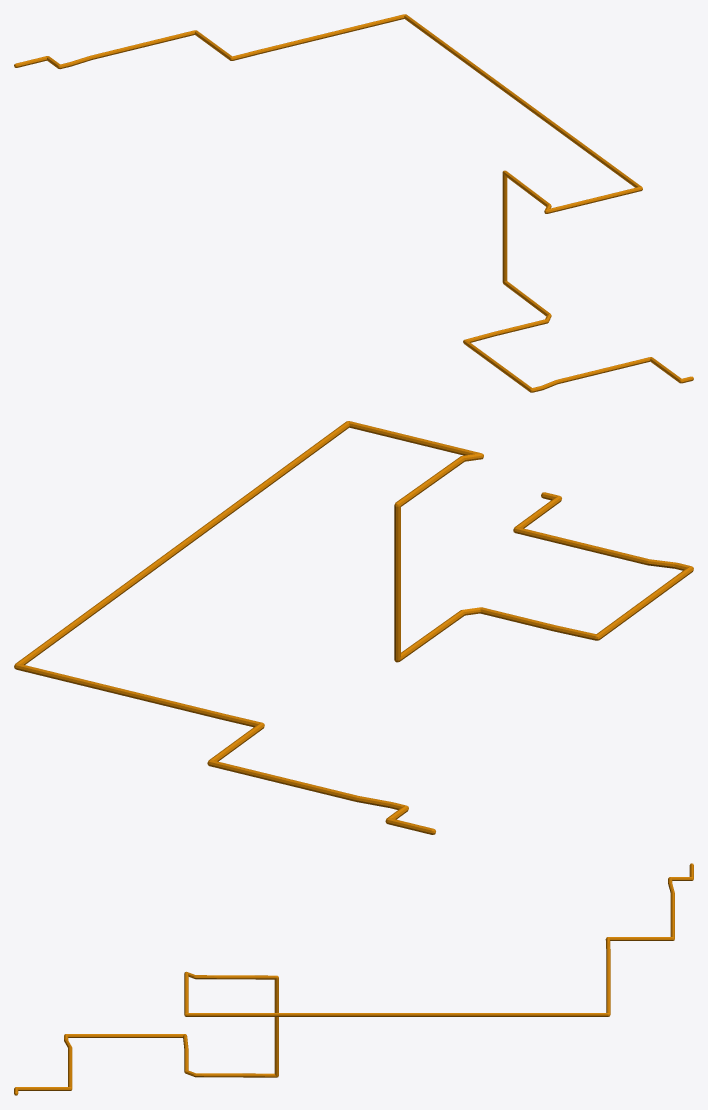
3 renders of one model, top to bottom at view 1: azimuth 30°, elevation 25°; view 2: azimuth 150°, elevation 25°; view 3: azimuth 270°, elevation 25°, orthographic. The views are drawn at different scales.
Bounding box in the file's own units: 1655 × 520 × 3142.
